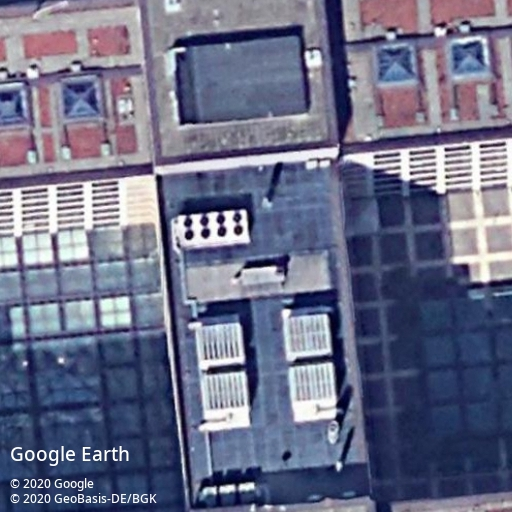Chiller: (177, 208, 252, 251)
